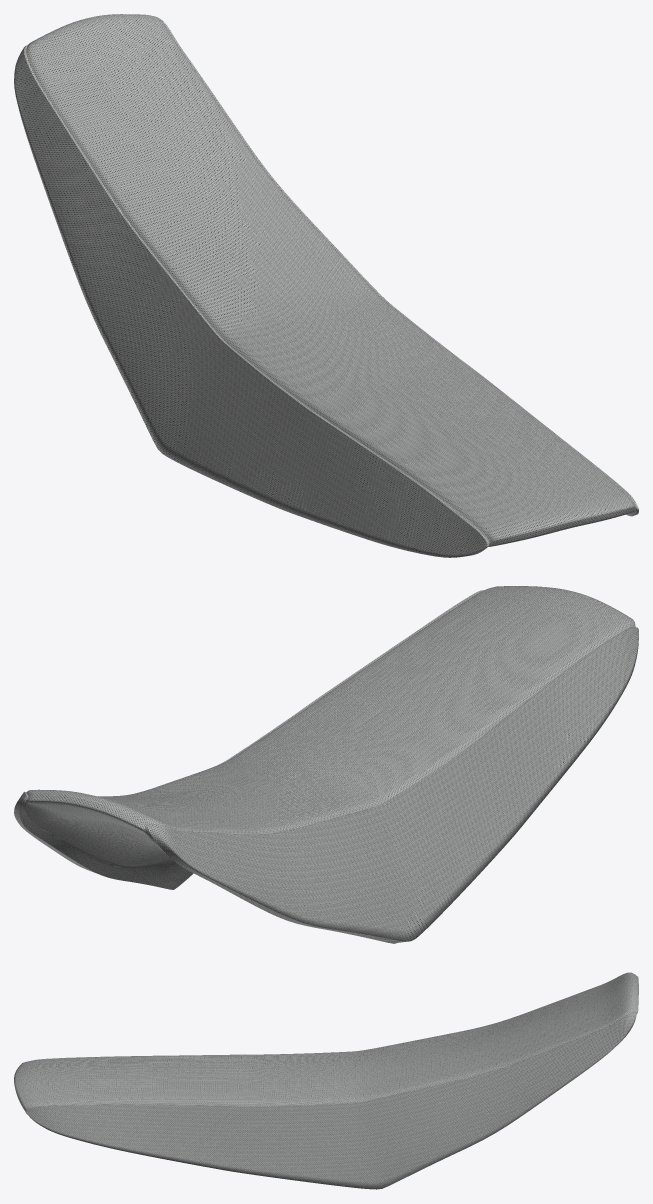
File: 174_MainSeat-7518f15a.glb
3 views of the same model, one above another, from view 1: azimuth 30°, elevation 25°; view 2: azimuth 150°, elevation 25°; view 3: azimuth 270°, elevation 25° (orthographic). The views are drawn at different scales.
Parts seen in each view (by area): view 1: Seat; view 2: Seat; view 3: Seat.
Part boxes in pixels (<box>): Seat: <box>14,14,638,557</box>; Seat: <box>14,586,638,943</box>; Seat: <box>14,972,638,1189</box>.
Size of the model in its own units: 0.2274 by 0.2254 by 0.7595.
Materials: 3 (3 with a texture image).
